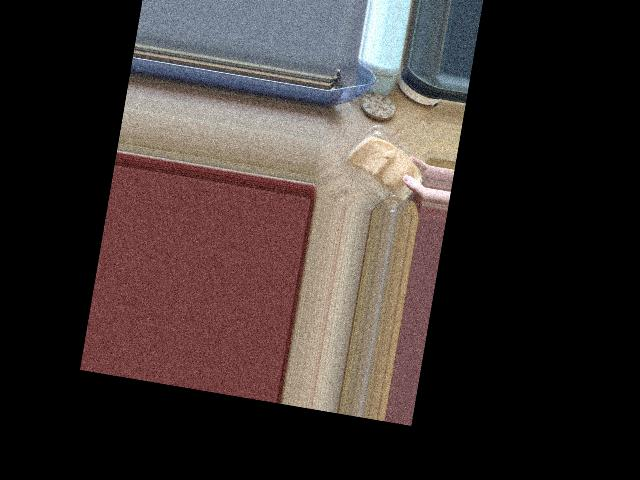cheese: (324, 111, 428, 215)
